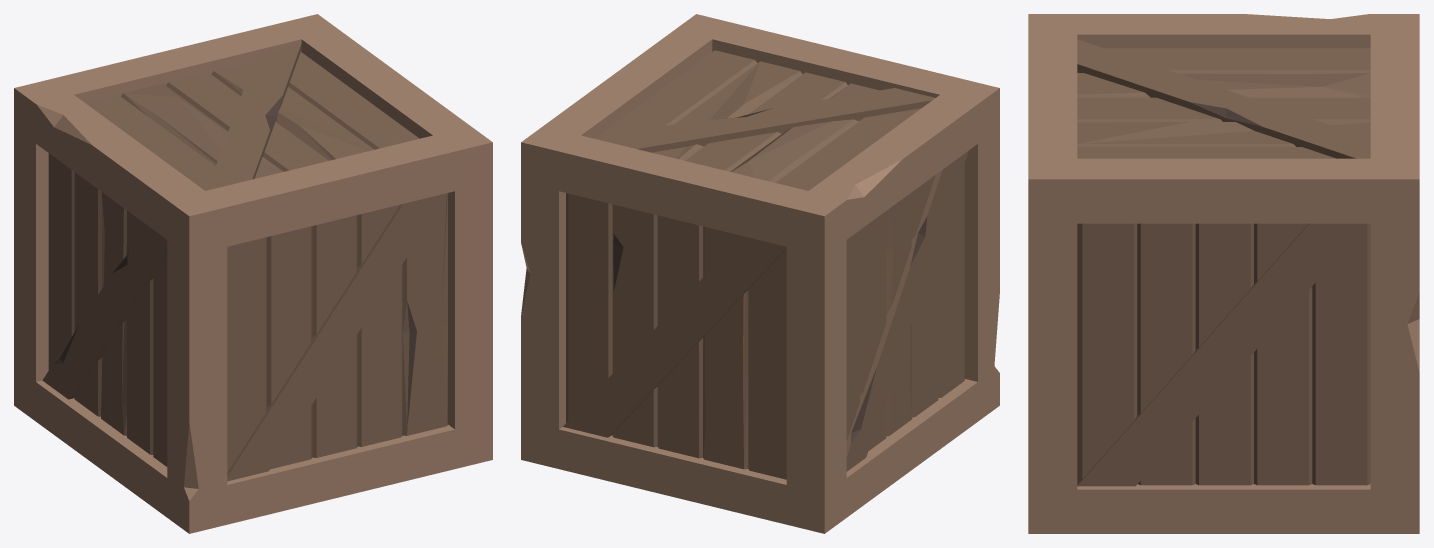
Rendered from model_wooden_box.fbx.
The picture shows the model from 3 angles, left to right: view 1: azimuth 30°, elevation 25°; view 2: azimuth 150°, elevation 25°; view 3: azimuth 270°, elevation 25°; orthographic projection. The views are drawn at different scales.
Visible parts, largest first — view 1: model_wooden_box; view 2: model_wooden_box; view 3: model_wooden_box.
Boxes of the visible parts, x1,y1,x2,y2 form: model_wooden_box: [14, 14, 492, 533]; model_wooden_box: [521, 14, 999, 533]; model_wooden_box: [1028, 14, 1419, 533].
Bounding box in the file's own units: 100 × 100 × 100.
Materials: 1 (1 with a texture image).
